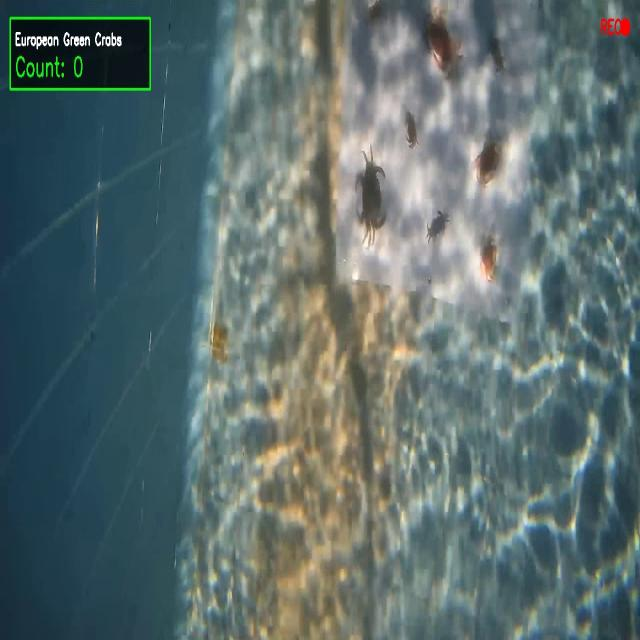European_Green_Crab: (351, 140, 392, 254), (424, 205, 454, 255), (487, 28, 506, 80)
